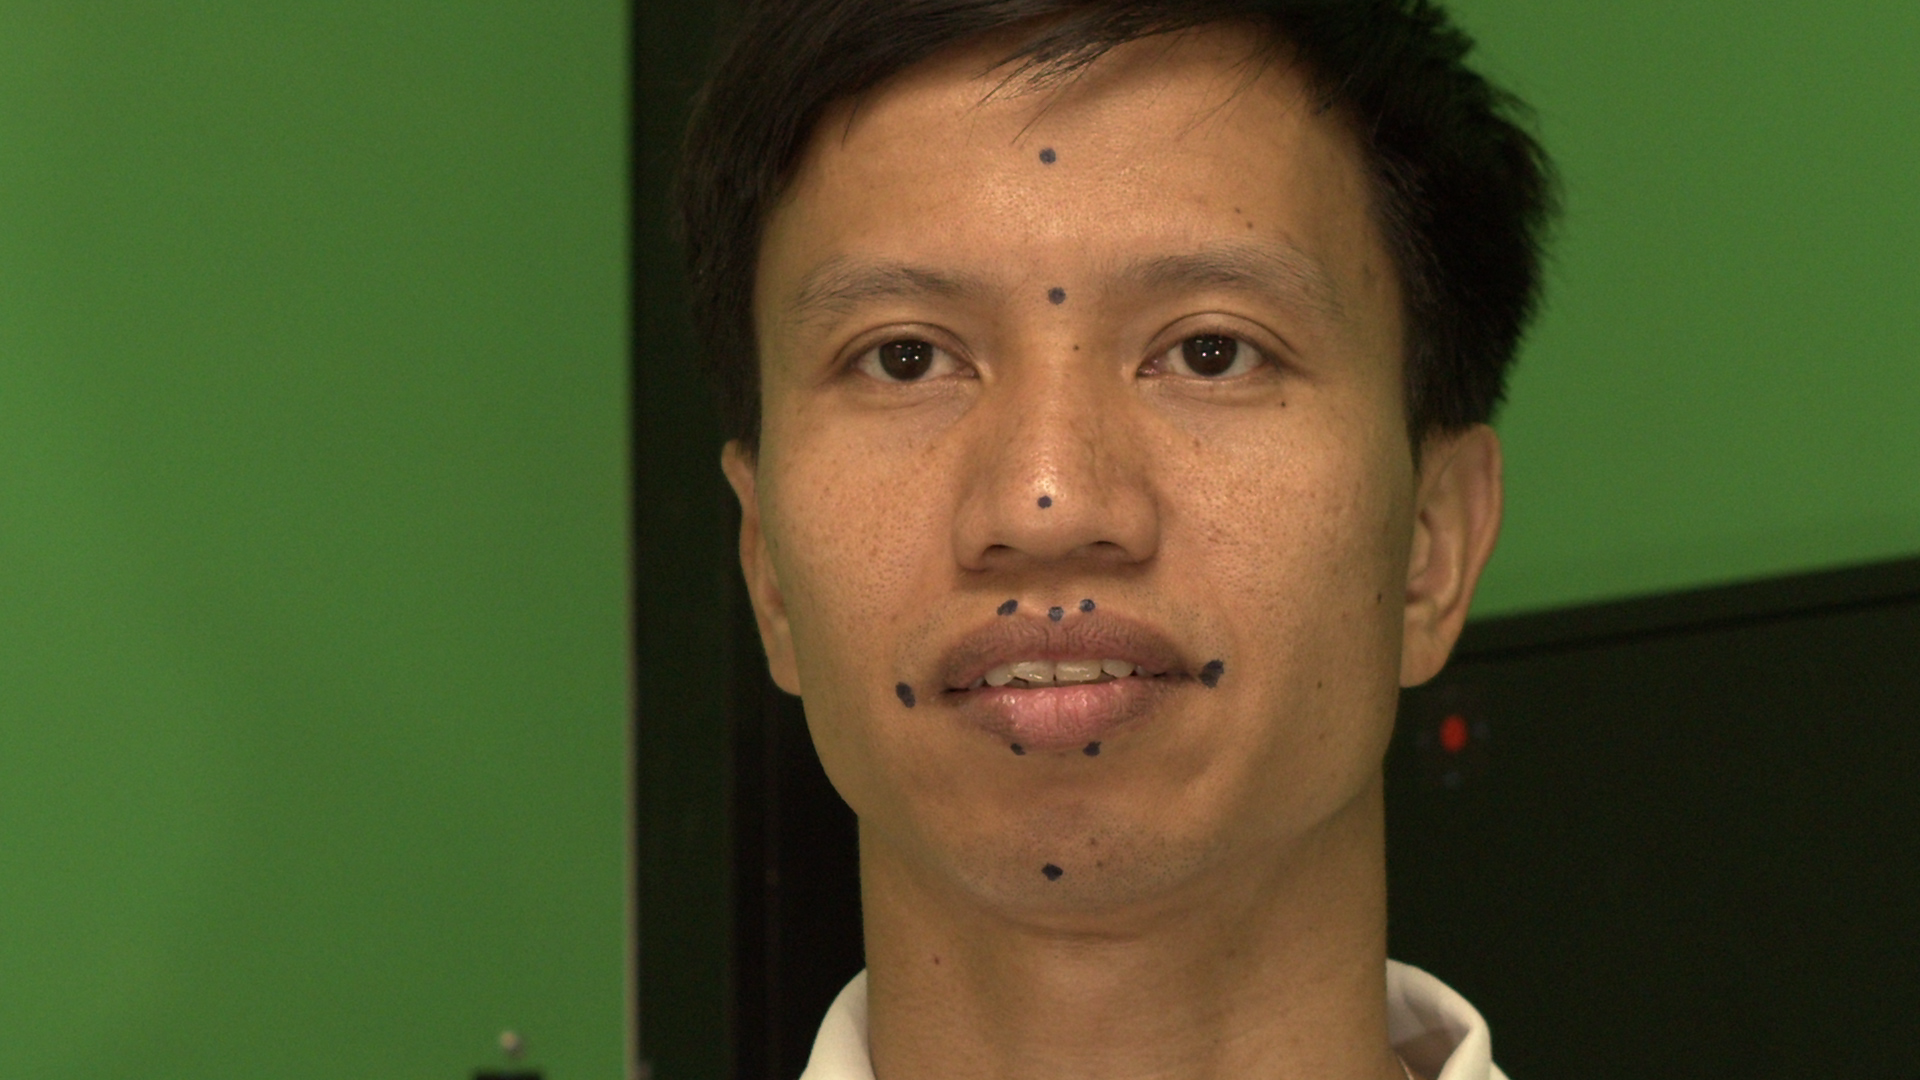10: (1201, 663, 1220, 682)
2: (1084, 741, 1100, 756)
5: (1000, 600, 1017, 616)
Cheilion R: (897, 684, 914, 705)
Crista Philtri L: (1083, 601, 1095, 613)
Glabella: (1047, 287, 1065, 305)
Labrale Superius: (1047, 605, 1065, 622)
Metopion: (1039, 146, 1058, 165)
Pogonion: (1043, 864, 1062, 880)
Pronasale: (1036, 496, 1052, 510)
